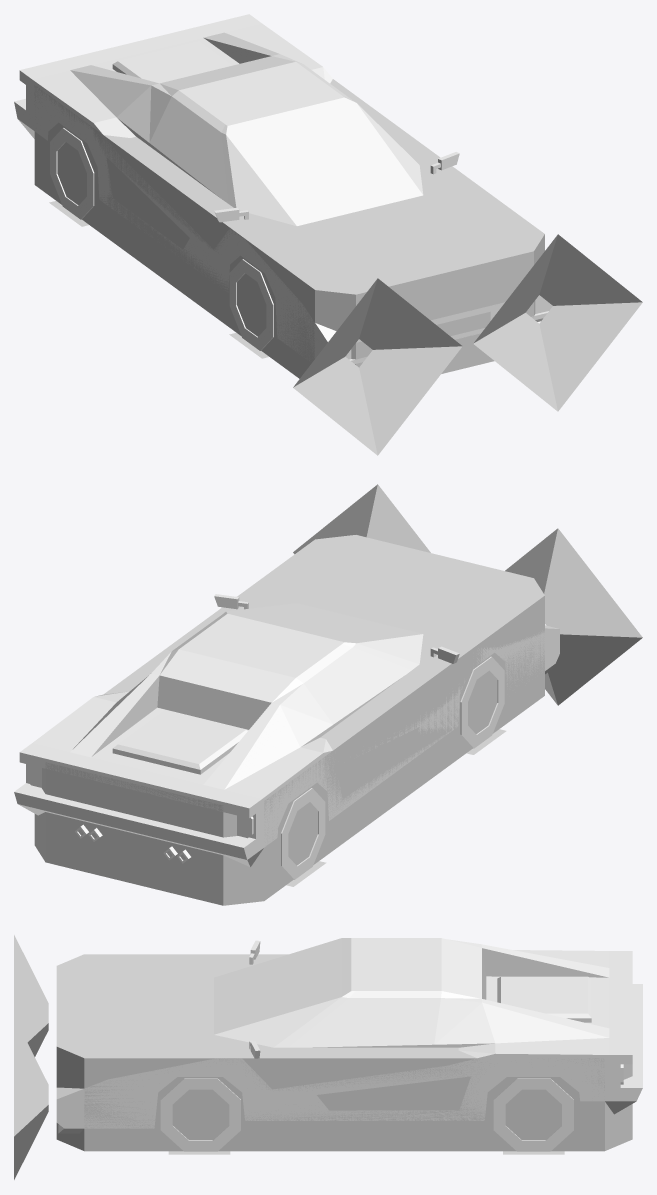
Rendered from Eleganza.fbx.
3 views of the same model, one above another, from view 1: azimuth 30°, elevation 25°; view 2: azimuth 150°, elevation 25°; view 3: azimuth 270°, elevation 25° (orthographic). The views are drawn at different scales.
Visible parts, largest first — view 1: eleganza1, eleganza_cldr; view 2: eleganza1, eleganza_cldr; view 3: eleganza1, eleganza_cldr, TireSmokeMesh.
Part boxes in pixels (x1,y1,x2,y2): eleganza1: (14, 14, 642, 455); eleganza_cldr: (34, 79, 544, 378); eleganza1: (14, 484, 642, 879); eleganza_cldr: (34, 535, 544, 905); eleganza1: (14, 935, 642, 1179); eleganza_cldr: (56, 954, 632, 1151); TireSmokeMesh: (168, 1151, 564, 1154).
Bounding box in the file's own units: 5.4 × 2.78 × 9.05.
